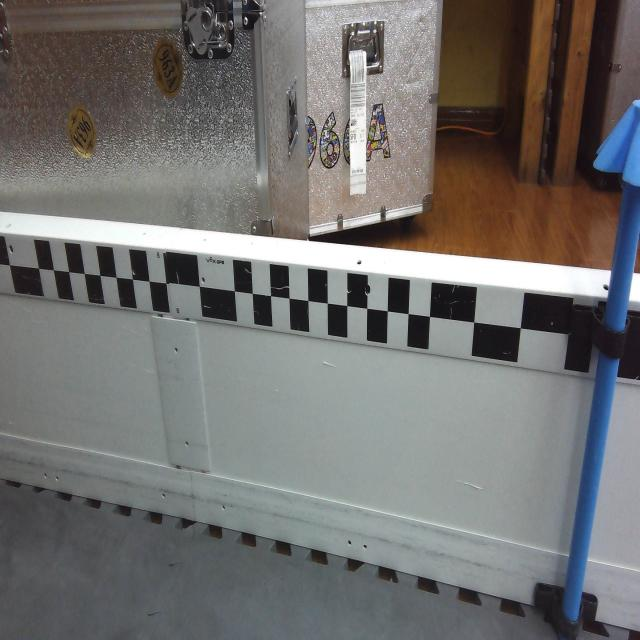zblue-Stake-Head: (593, 99, 640, 187)
